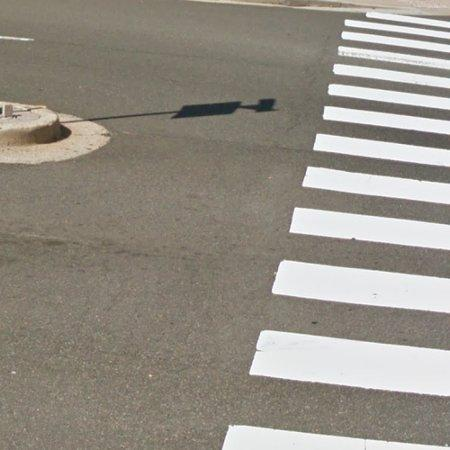crosswalks: (216, 4, 450, 449)
